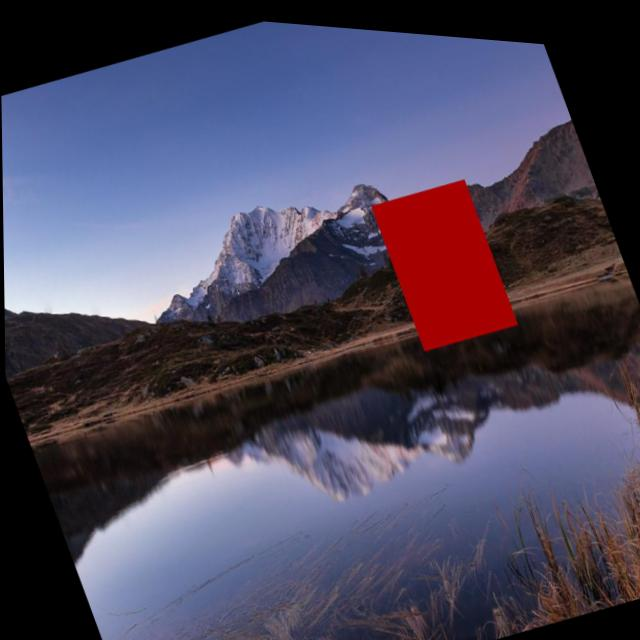RedSquare: (356, 148, 531, 363)
